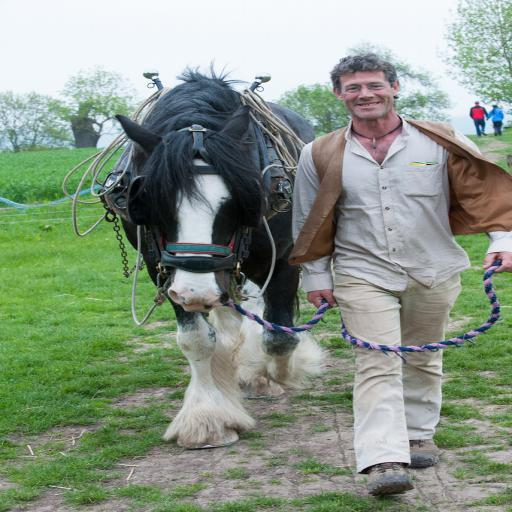horse: (120, 54, 318, 451)
